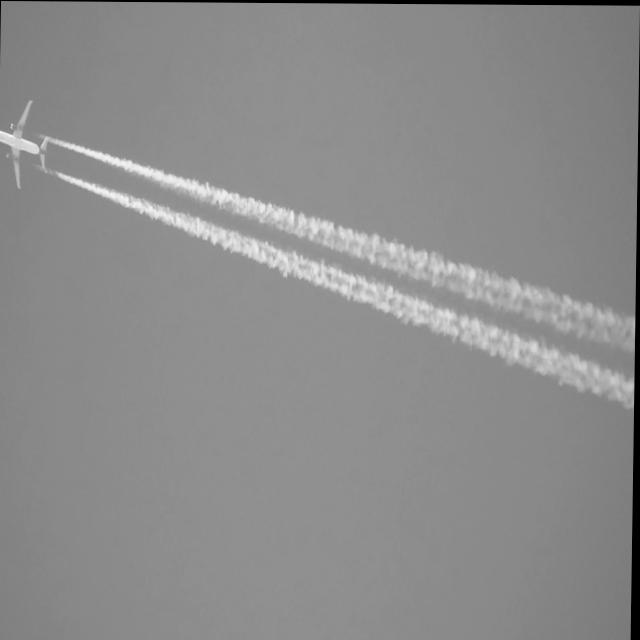aeroplane: (0, 92, 53, 191)
